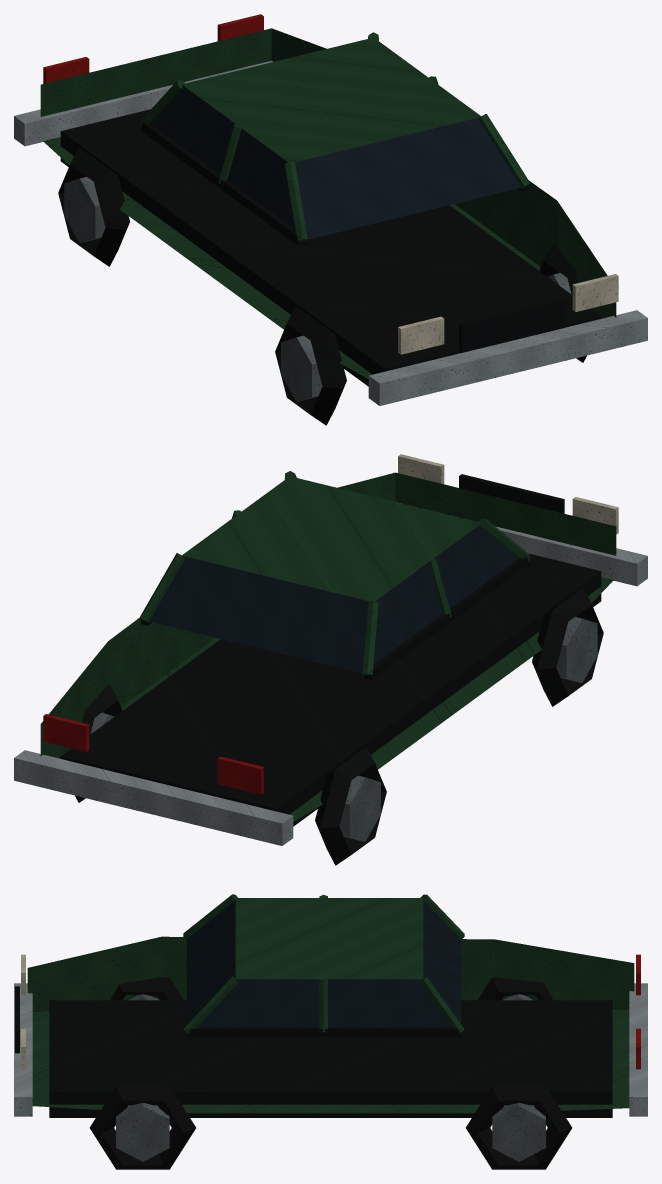
File: PROP-1BE4037C3DC3_lod2.glb
3 views of the same model, one above another, from view 1: azimuth 30°, elevation 25°; view 2: azimuth 150°, elevation 25°; view 3: azimuth 270°, elevation 25° (orthographic). The views are drawn at different scales.
Visible parts, largest first — view 1: chassis.003, sloped_cabin_glazing.003, roof_panel.003, shaped_body_panels.003, bumper.003, tire.003, rim.003, radiator_grille.003, window_pillars.003, lamp_lenses.006, window_belt.003, lamp_lenses.007; view 2: chassis.003, sloped_cabin_glazing.003, roof_panel.003, shaped_body_panels.003, bumper.003, tire.003, rim.003, window_pillars.003, lamp_lenses.007, window_belt.003, lamp_lenses.006, radiator_grille.003; view 3: chassis.003, shaped_body_panels.003, sloped_cabin_glazing.003, roof_panel.003, tire.003, rim.003, bumper.003, window_belt.003, window_pillars.003, lamp_lenses.006, lamp_lenses.007.
Boxes of the visible parts, bbox=[...] form: chassis.003: bbox=[60, 109, 601, 386]; sloped_cabin_glazing.003: bbox=[151, 85, 520, 239]; roof_panel.003: bbox=[182, 37, 480, 162]; shaped_body_panels.003: bbox=[40, 28, 616, 378]; bumper.003: bbox=[14, 61, 647, 405]; tire.003: bbox=[58, 148, 586, 425]; rim.003: bbox=[64, 177, 571, 401]; radiator_grille.003: bbox=[459, 298, 564, 352]; window_pillars.003: bbox=[139, 32, 530, 241]; lamp_lenses.006: bbox=[398, 274, 618, 354]; window_belt.003: bbox=[140, 121, 529, 246]; lamp_lenses.007: bbox=[43, 14, 263, 83]; chassis.003: bbox=[60, 553, 601, 826]; sloped_cabin_glazing.003: bbox=[149, 523, 518, 673]; roof_panel.003: bbox=[182, 476, 481, 601]; shaped_body_panels.003: bbox=[40, 472, 616, 821]; bumper.003: bbox=[14, 526, 647, 845]; tire.003: bbox=[75, 588, 603, 865]; rim.003: bbox=[90, 617, 597, 841]; window_pillars.003: bbox=[139, 471, 530, 675]; lamp_lenses.007: bbox=[43, 714, 263, 794]; window_belt.003: bbox=[140, 555, 529, 680]; lamp_lenses.006: bbox=[398, 454, 618, 534]; radiator_grille.003: bbox=[459, 474, 564, 513]; chassis.003: bbox=[49, 1000, 612, 1117]; shaped_body_panels.003: bbox=[27, 936, 634, 1113]; sloped_cabin_glazing.003: bbox=[186, 898, 460, 1027]; roof_panel.003: bbox=[235, 898, 423, 979]; tire.003: bbox=[89, 977, 572, 1169]; rim.003: bbox=[116, 994, 545, 1161]; bumper.003: bbox=[14, 983, 647, 1116]; window_belt.003: bbox=[186, 1027, 460, 1037]; window_pillars.003: bbox=[183, 894, 464, 1033]; lamp_lenses.006: bbox=[21, 954, 25, 1069]; lamp_lenses.007: bbox=[636, 954, 640, 1069].
Size of the model in its own units: 1.98 by 1.38 by 4.39.
8 materials, 8 textured.
